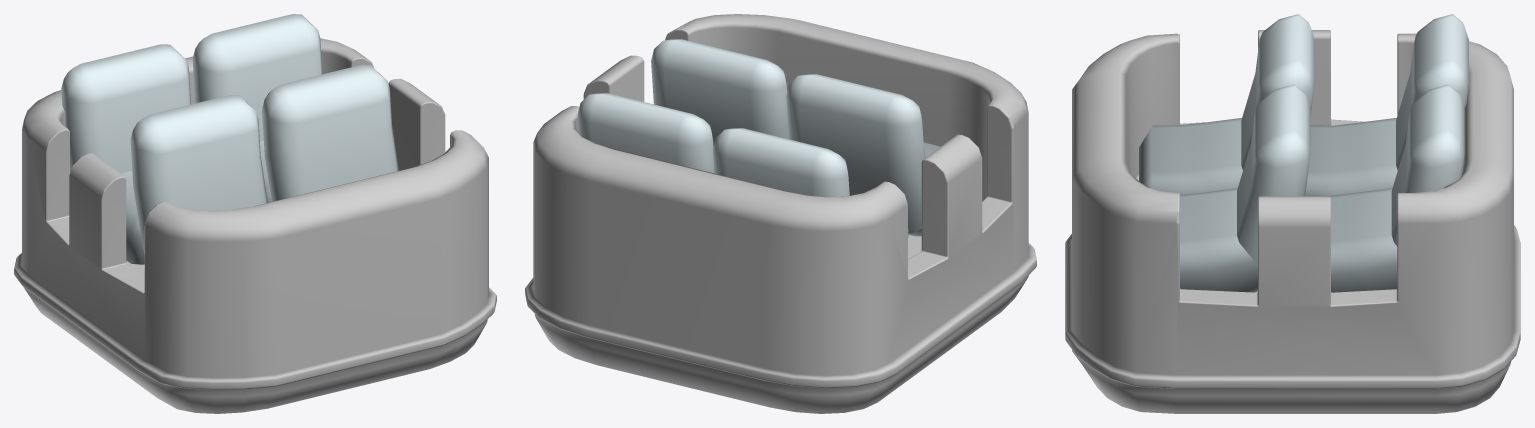
Rendered from Wegan Mid.fbx.
The picture shows the model from 3 angles, left to right: view 1: azimuth 30°, elevation 25°; view 2: azimuth 150°, elevation 25°; view 3: azimuth 270°, elevation 25°; orthographic projection. The views are drawn at different scales.
Parts seen in each view (by area): view 1: Wegan_Mid_3rd_option; view 2: Wegan_Mid_3rd_option; view 3: Wegan_Mid_3rd_option.
Boxes of the visible parts, x1=… form: Wegan_Mid_3rd_option: x1=14, y1=14, x2=496, y2=413; Wegan_Mid_3rd_option: x1=525, y1=14, x2=1036, y2=413; Wegan_Mid_3rd_option: x1=1065, y1=14, x2=1520, y2=413.
Bounding box in the file's own units: 99.92 × 66.75 × 103.
